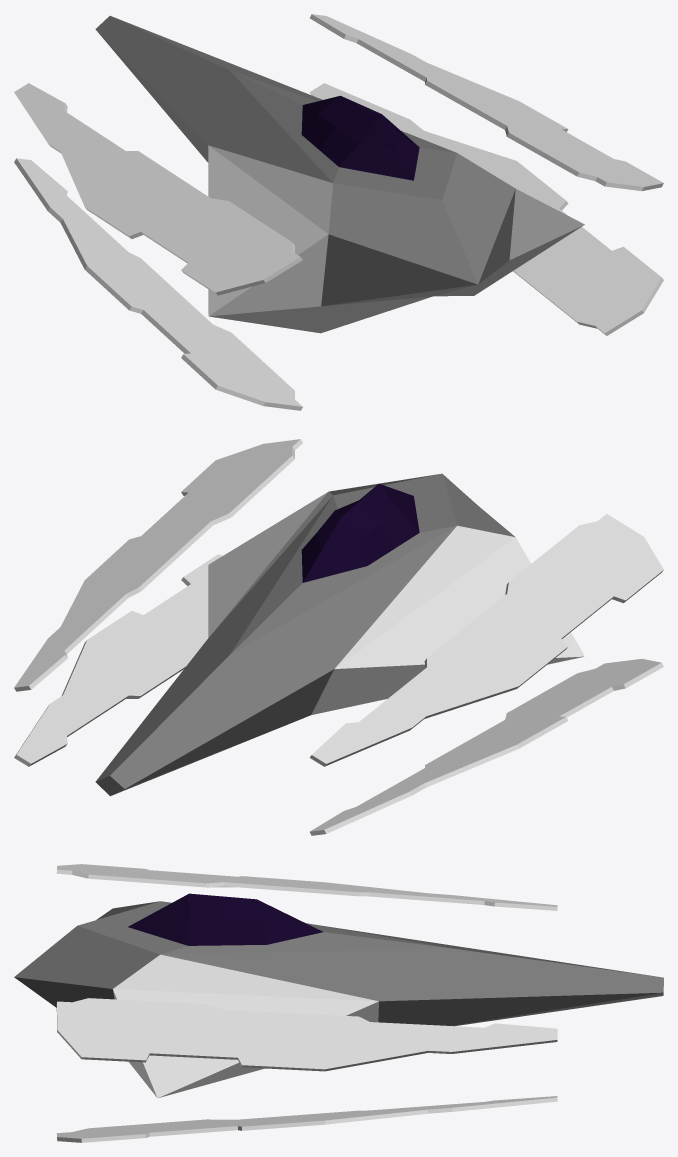
The model's file is 494_player_v2.fbx.
3 views of the same model, one above another, from view 1: azimuth 30°, elevation 25°; view 2: azimuth 150°, elevation 25°; view 3: azimuth 270°, elevation 25° (orthographic). The views are drawn at different scales.
Visible parts, largest first — view 1: Hull.002, Wings.003; view 2: Hull.002, Wings.003; view 3: Hull.002, Wings.003.
Boxes of the visible parts, x1,y1,x2,y2 form: Hull.002: (95,16,584,333); Wings.003: (14,14,663,410); Hull.002: (95,473,584,796); Wings.003: (14,439,663,835); Hull.002: (14,893,663,1098); Wings.003: (56,864,557,1142).
Bounding box in the file's own units: 85.93 × 36.89 × 122.
